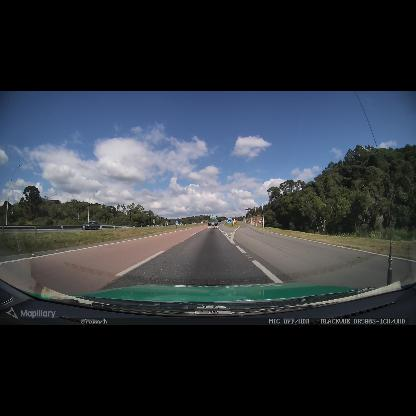O-MP: (232, 221, 234, 226)
R-19: (234, 221, 237, 224), (258, 221, 261, 224)
